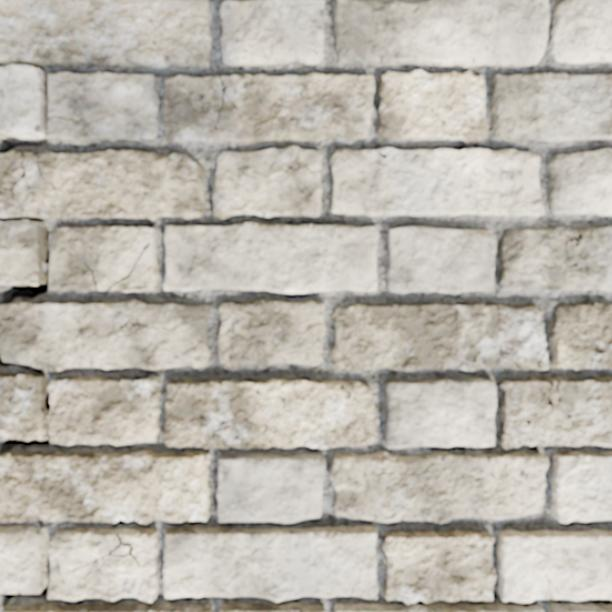brick: (0, 0, 210, 136), (0, 150, 205, 284), (335, 531, 542, 611), (165, 527, 377, 601), (330, 451, 548, 522), (165, 223, 378, 293), (0, 451, 209, 522), (164, 73, 375, 143), (0, 300, 209, 370), (164, 379, 376, 448), (330, 302, 545, 370), (331, 148, 543, 216), (335, 0, 548, 66), (0, 372, 160, 445), (491, 74, 611, 142), (498, 530, 611, 601), (49, 528, 157, 601), (47, 72, 158, 142), (500, 378, 611, 448), (379, 71, 488, 142), (214, 147, 321, 218), (386, 378, 496, 447), (218, 453, 325, 522), (387, 227, 496, 293), (499, 227, 611, 291), (219, 300, 325, 366), (50, 227, 157, 290), (221, 0, 324, 64), (548, 149, 611, 215), (552, 452, 611, 522), (551, 304, 611, 369), (552, 0, 611, 63), (0, 527, 45, 592), (4, 603, 213, 611), (220, 603, 324, 611), (549, 604, 611, 611), (541, 354, 548, 368)
crack: (0, 65, 77, 154), (0, 519, 51, 610), (0, 218, 51, 305), (522, 379, 575, 430), (106, 242, 150, 291), (214, 76, 242, 131), (0, 431, 51, 456), (3, 153, 26, 202), (33, 153, 58, 196), (0, 351, 44, 375), (350, 559, 362, 596), (500, 348, 520, 369), (83, 262, 97, 290), (285, 165, 320, 174), (537, 348, 548, 369), (375, 149, 389, 159), (46, 388, 52, 410), (0, 216, 26, 220), (248, 301, 264, 307), (0, 245, 13, 249), (372, 594, 378, 600), (338, 149, 342, 154)
